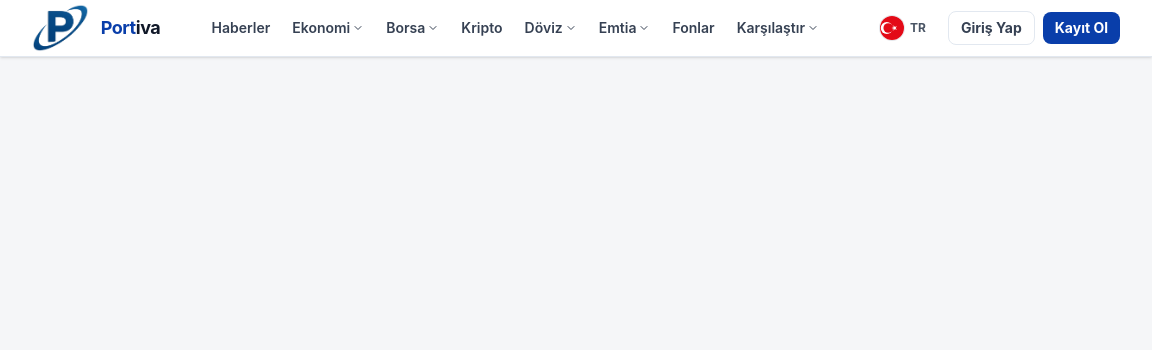
Test case: Header (Vitest + @testing-library/react) › dropdown menüleri (etkileşim) › "Karşılaştır" başlığına tıklayınca tüm karşılaştırma öğeleri açılır
Expected: the text "Varlık Karşılaştırma" is not shown
Click the button "Karşılaştır".
click(778, 28)  # box [727,10,829,46]
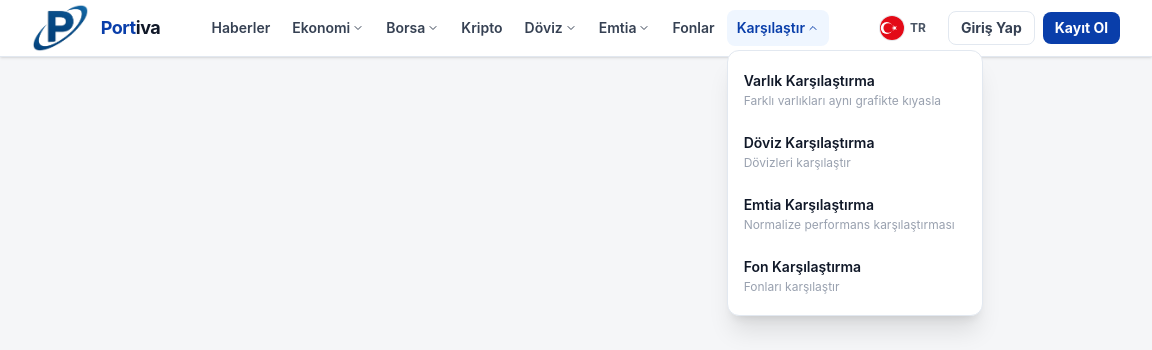
Expected: the text "Varlık Karşılaştırma" is shown, [744,72,875,89]
Expected: the text "Döviz Karşılaştırma" is shown, [744,134,874,151]
Expected: the text "Emtia Karşılaştırma" is shown, [744,196,874,213]
